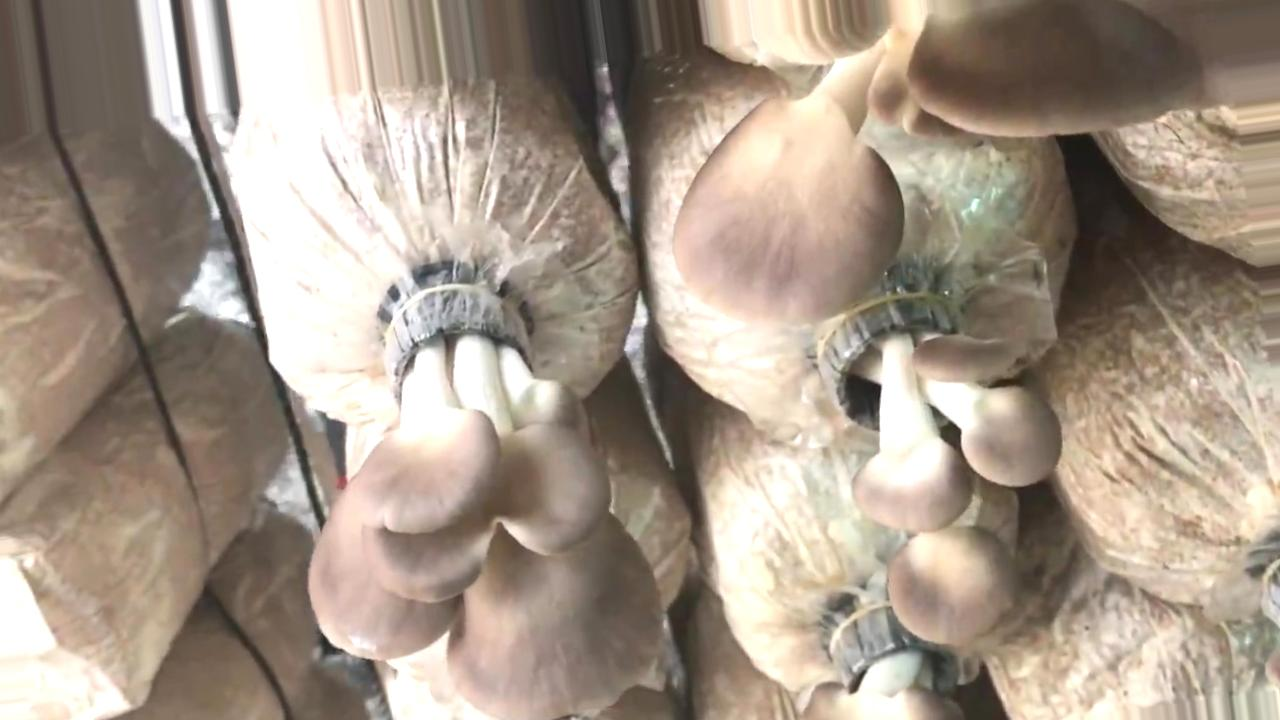nam: (673, 1, 1280, 327), (309, 282, 660, 716), (827, 287, 1057, 641), (799, 600, 956, 720)
